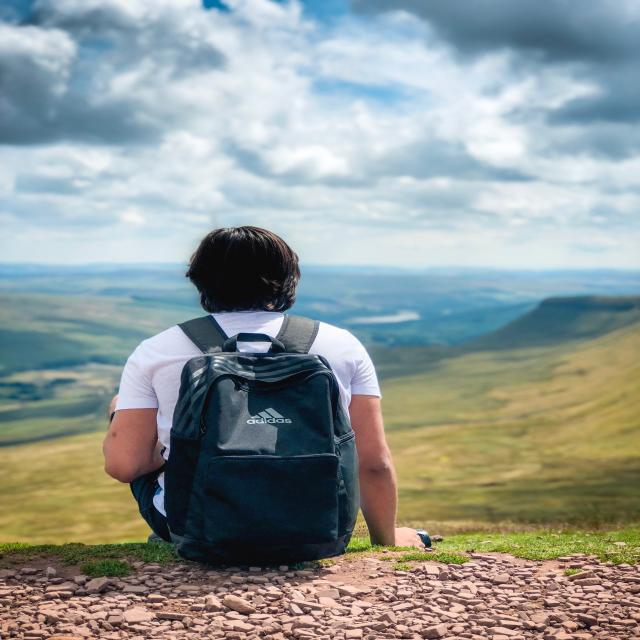backpack: (165, 318, 362, 567)
